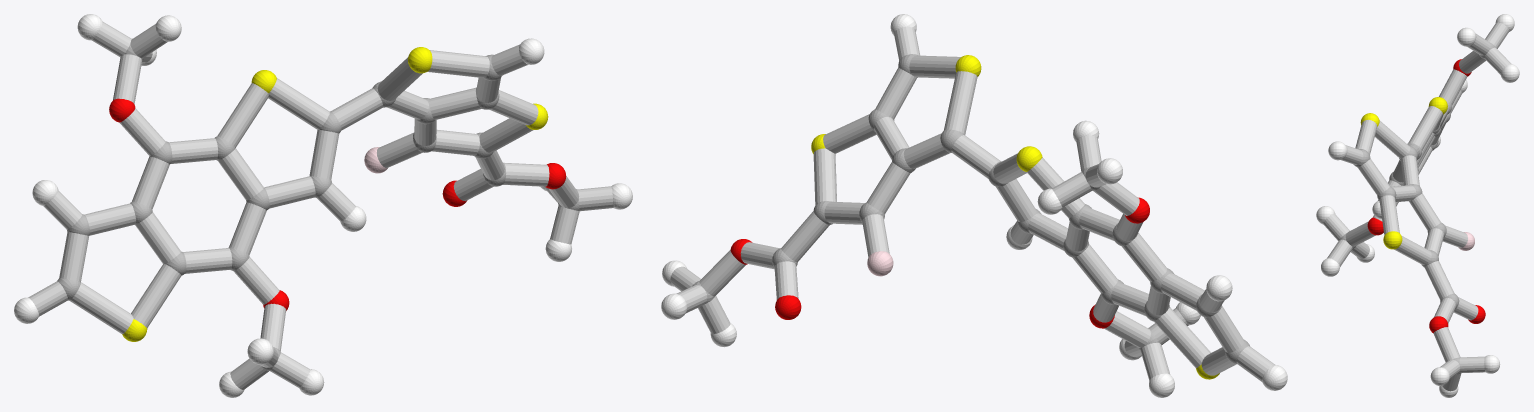
File: color.glb
3 renders of one model, left to right at view 1: azimuth 30°, elevation 25°; view 2: azimuth 150°, elevation 25°; view 3: azimuth 270°, elevation 25°, orthographic. The views are drawn at different scales.
Parts seen in each view (by area): view 1: grp15205, grp8689, grp1, grp7241, grp13395; view 2: grp15205, grp8689, grp1, grp13395, grp7241, grp14843; view 3: grp15205, grp8689, grp1, grp13395, grp7241.
Part boxes in pixels (<box>): grp15205: <box>28,22,613,389</box>; grp8689: <box>14,14,632,397</box>; grp1: <box>57,38,579,370</box>; grp7241: <box>122,47,548,341</box>; grp13395: <box>109,98,566,310</box>; grp15205: <box>670,26,1274,381</box>; grp8689: <box>661,14,1287,397</box>; grp1: <box>692,54,1249,364</box>; grp13395: <box>730,197,1149,328</box>; grp7241: <box>811,55,1219,379</box>; grp14843: <box>867,251,893,276</box>; grp15205: <box>1323,22,1511,391</box>; grp8689: <box>1316,14,1519,397</box>; grp1: <box>1340,42,1495,374</box>; grp13395: <box>1367,59,1485,333</box>; grp7241: <box>1360,97,1447,249</box>.
Bounding box in the file's own units: 16.21 × 8.16 × 6.37.
